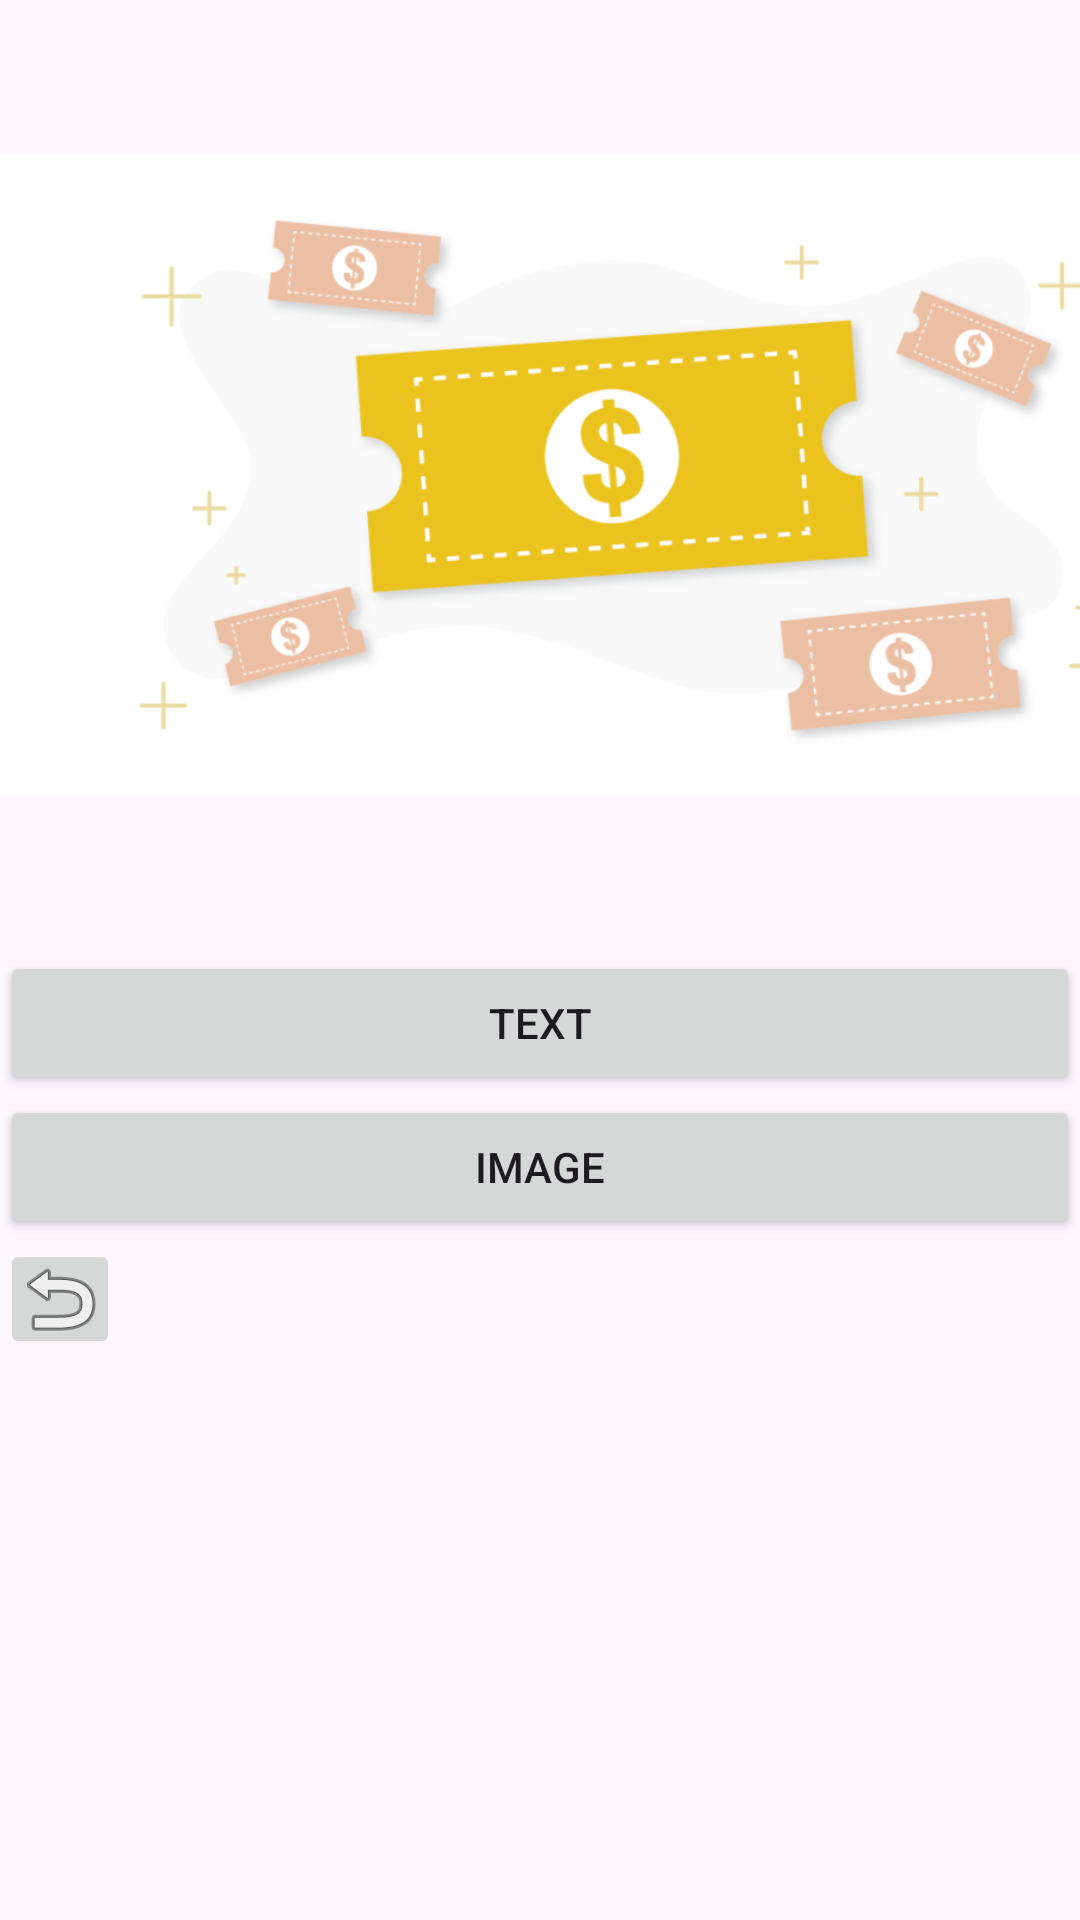

Icons on this 1080x1920 Android screen, each with its box as bbox=[x1, y1, x2, y2]:
revert: bbox=[12, 1257, 108, 1341]
